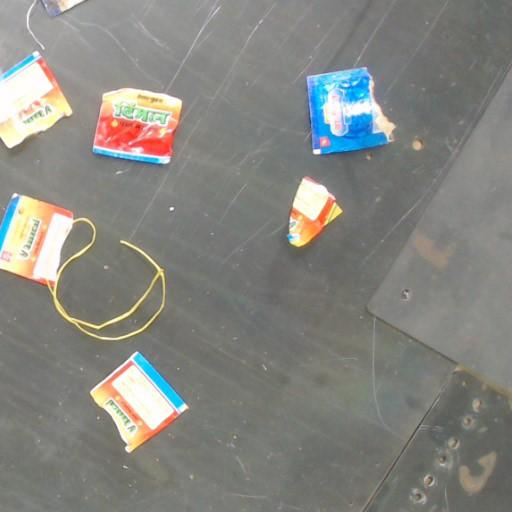packet: (90, 352, 187, 452), (307, 68, 394, 154), (0, 52, 72, 148), (0, 194, 72, 287), (93, 88, 180, 163), (287, 177, 341, 246), (41, 0, 84, 15)
thread: (45, 217, 166, 341), (26, 0, 43, 49)
